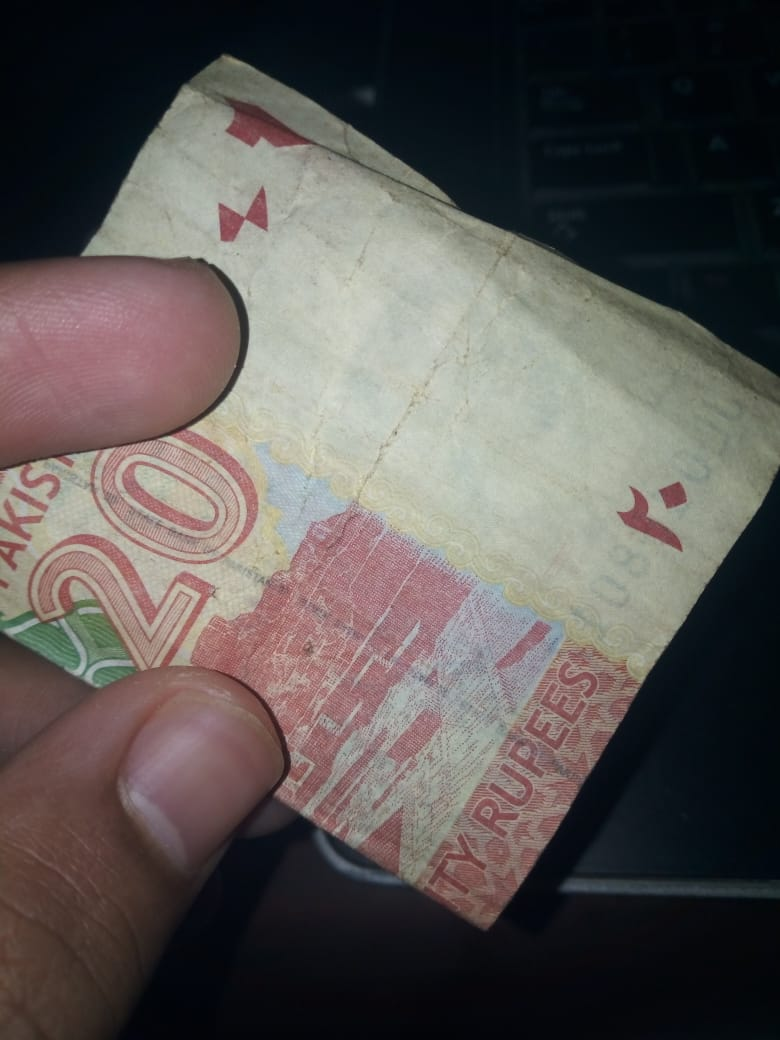20 rupee: (0, 38, 780, 974)
